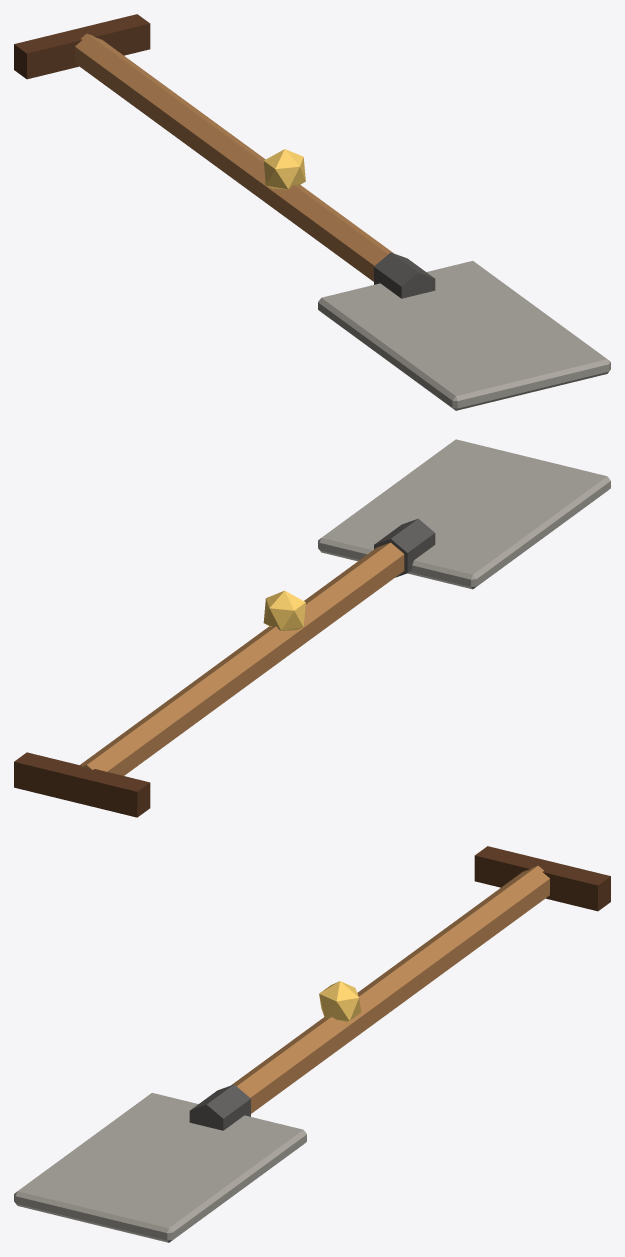
Rendered from Shovel.fbx.
3 renders of one model, top to bottom at view 1: azimuth 30°, elevation 25°; view 2: azimuth 150°, elevation 25°; view 3: azimuth 330°, elevation 25°, orthographic.
Parts seen in each view (by area): view 1: Shovel; view 2: Shovel; view 3: Shovel.
Part boxes in pixels (left/top/right/bottom): Shovel: left=14, top=14, right=610, bottom=410; Shovel: left=14, top=439, right=610, bottom=817; Shovel: left=14, top=846, right=610, bottom=1242.
Bounding box in the file's own units: 1 × 0.4 × 5.
